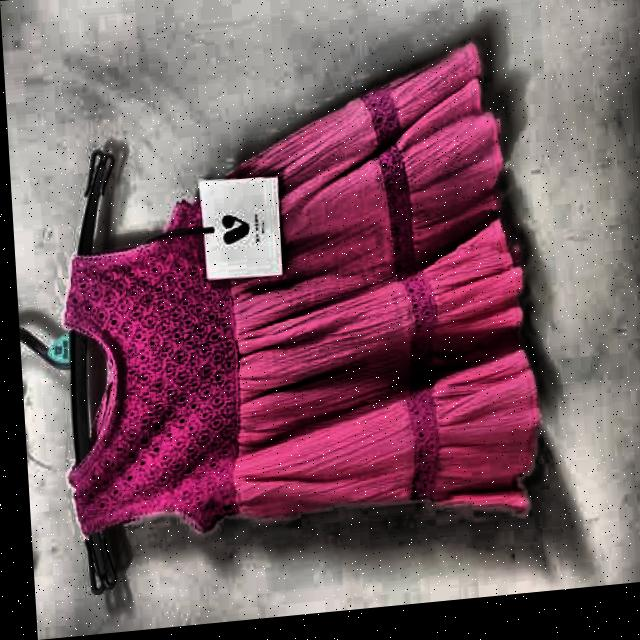clothes: (39, 34, 542, 565)
